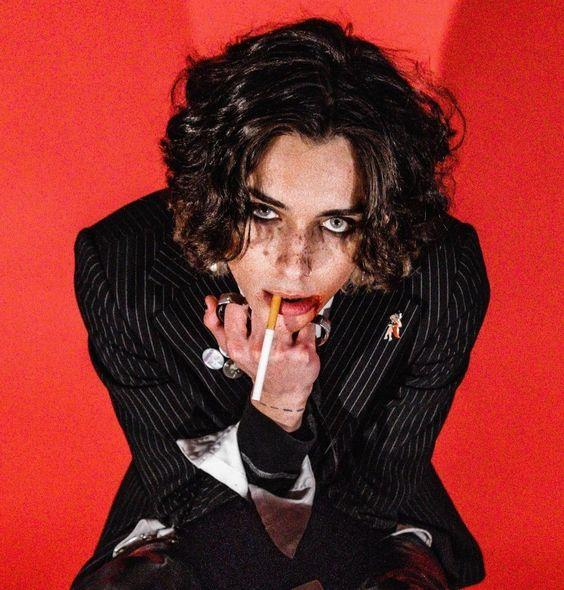cigarette: (251, 294, 282, 401)
